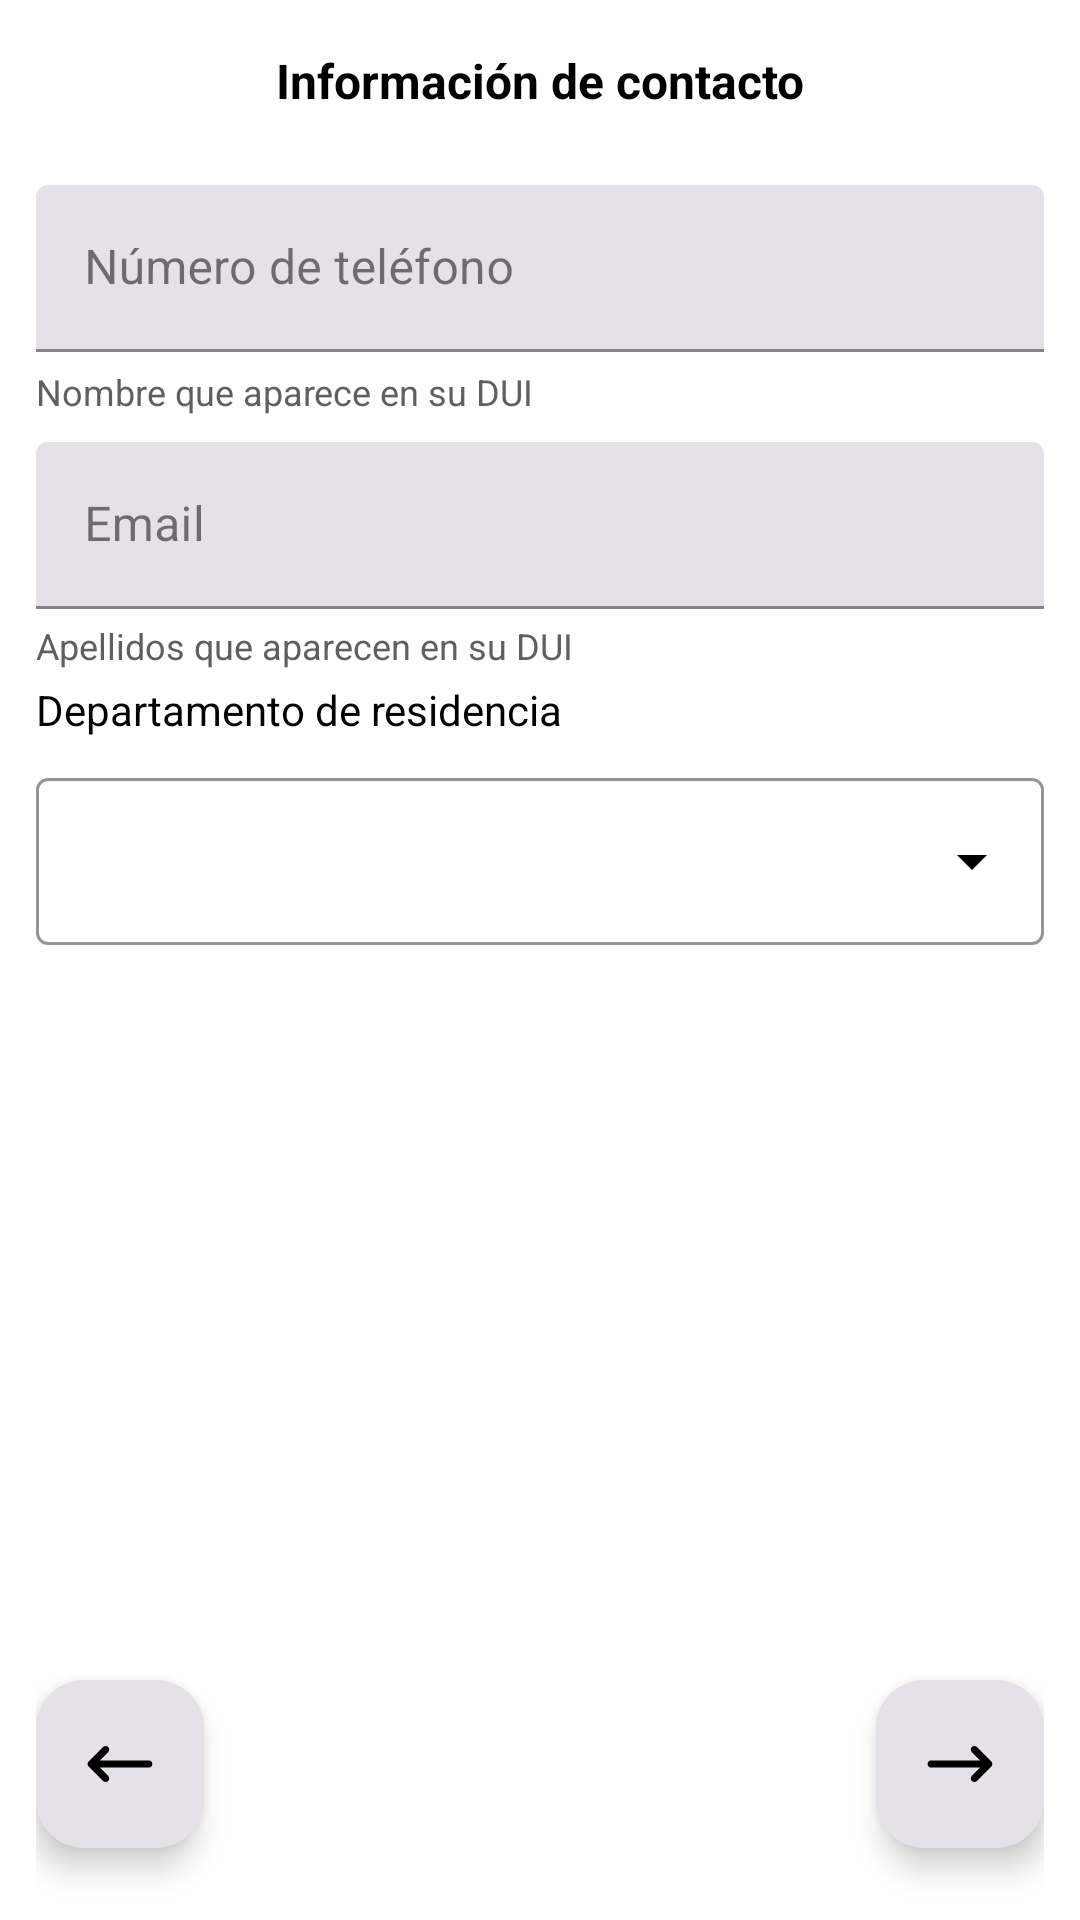

Where icons sit on this 1080x1920 app screen, as (x1, y1, x2, y2):
left arrow: (36, 1680, 204, 1848)
right arrow: (876, 1680, 1044, 1848)
